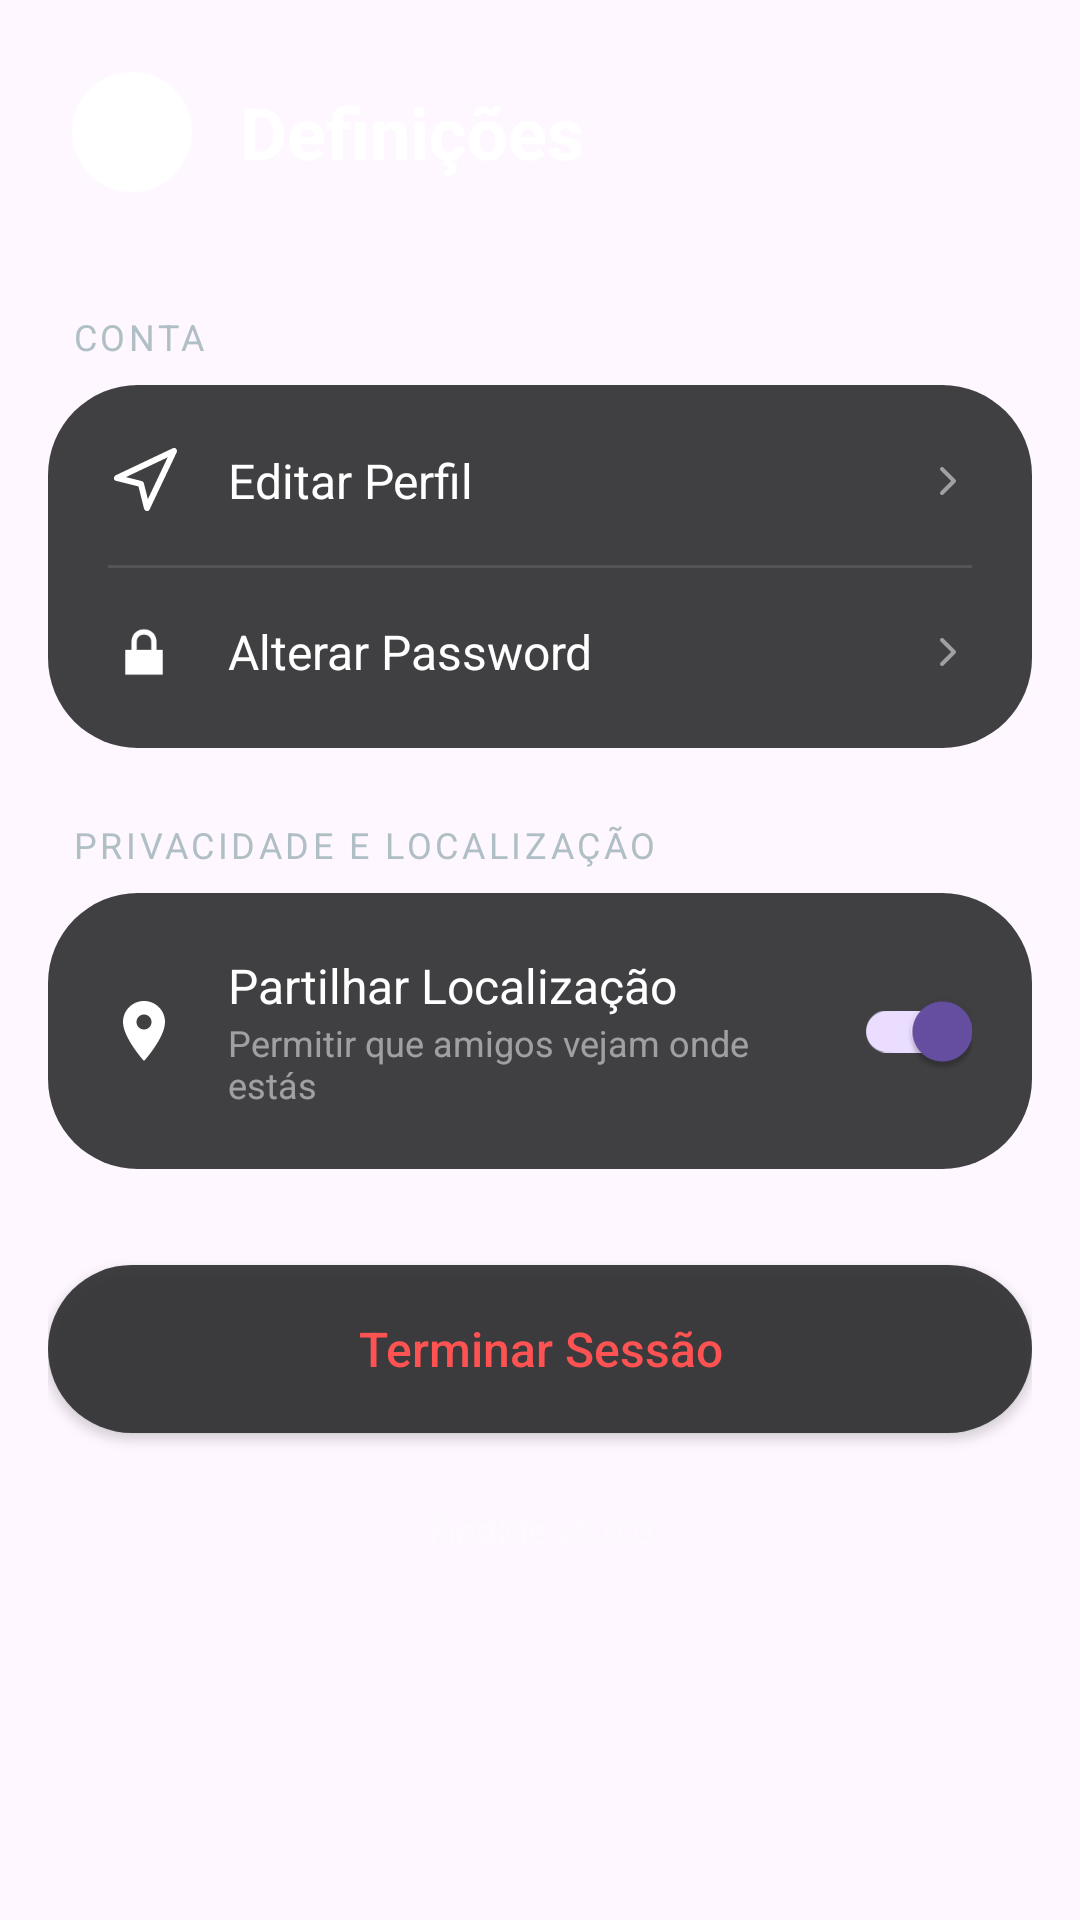

Icon bounding boxes for this 1080×1920 phone screenshot, format (left=x1, top=y1, right=x2, bottom=y2):
lock: (left=125, top=629, right=163, bottom=675)
pin: (left=123, top=1001, right=165, bottom=1061)
